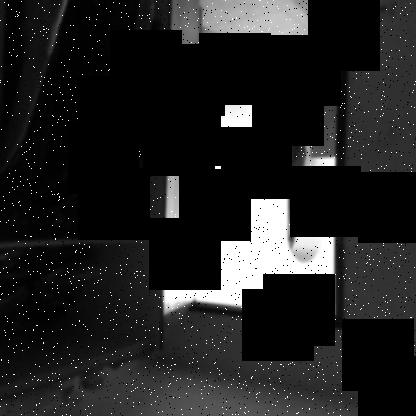Porte: (156, 0, 353, 334)
